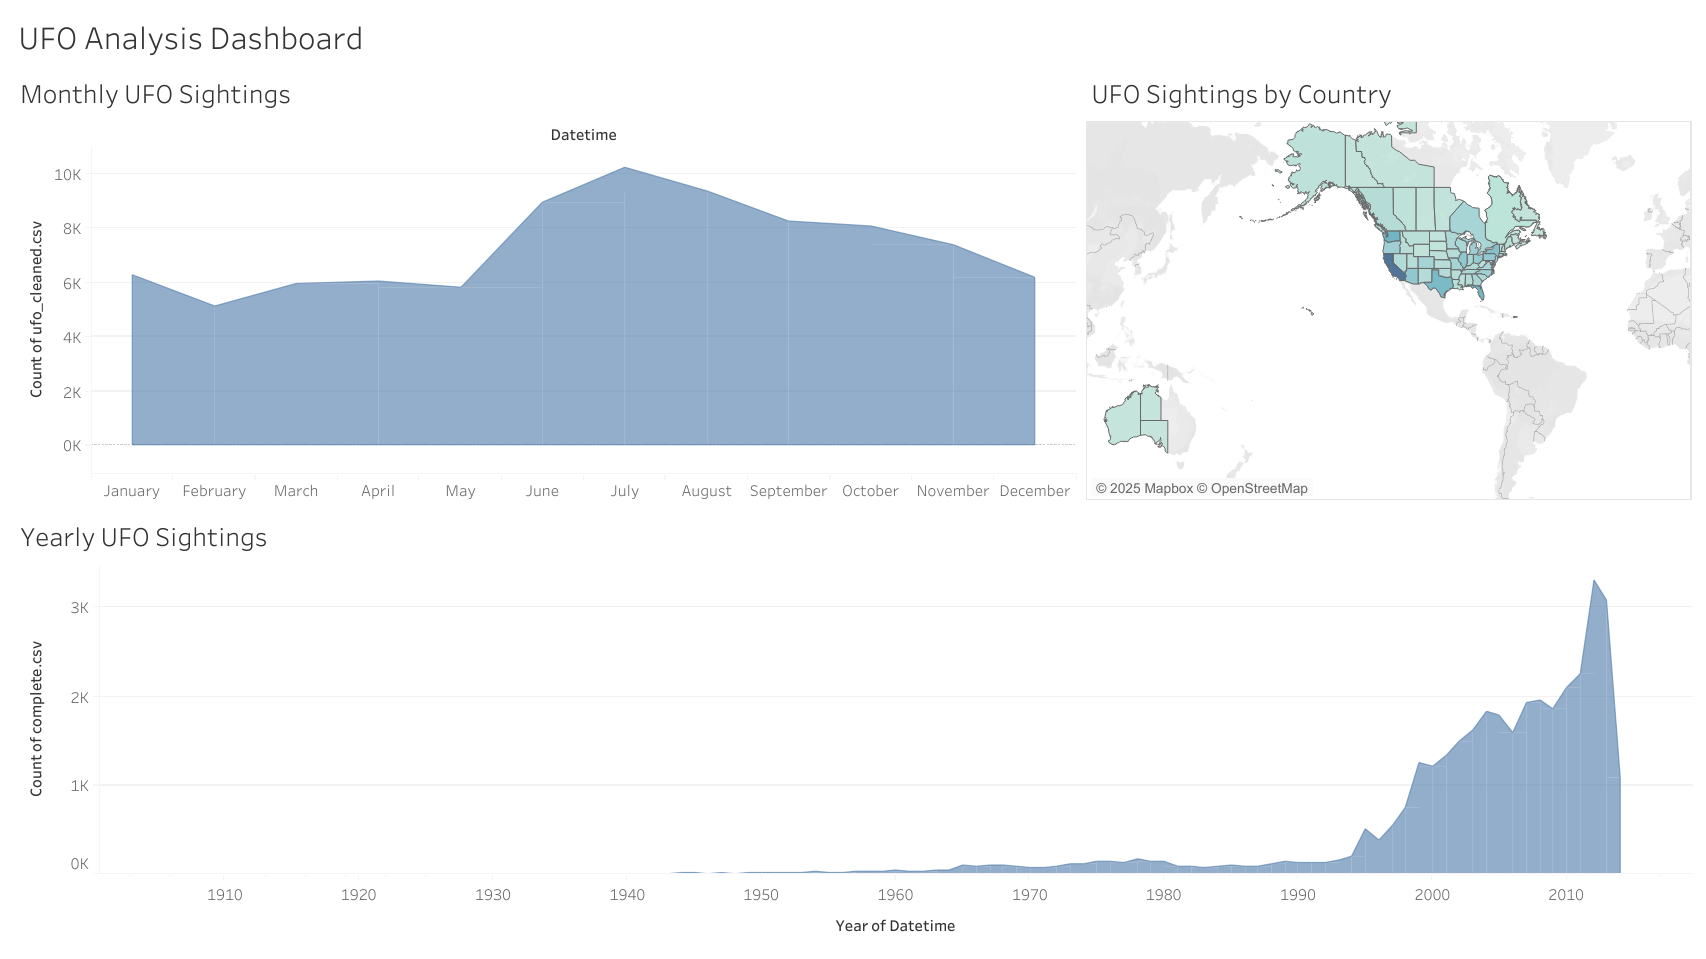

The page's visual inventory and layout, read from the dashboard file:
{"tool":"tableau","page":{"name":"UFO Analysis Dashboard","canvas":[1366,768],"ordinal":0},"visuals":[{"type":"title","box":[8,8,1350,50]},{"type":"worksheet","title":"Monthly UFO Sightings","mark":"Area","rows":["ufo_cleaned.csv_405D7FAE04CD462BA2849AC69C2F5E7C"],"cols":["datetime"],"box":[8,58,857,351]},{"type":"worksheet","title":"UFO Sightings by Country","mark":"Automatic","box":[865,58,493,351]},{"type":"worksheet","title":"Yearly UFO Sightings","mark":"Area","rows":["complete.csv_CC462EA0FF3C4A82B61550A6F2F0835F"],"cols":["datetime"],"box":[8,409,1350,351]}]}

Visuals, with their boxes in screenshot pixels (x1, y1, x2, y2), scaled from the page's 1366x768 canvas onto the 1706x959 screenshot:
title: 10/10/1696/72
"Monthly UFO Sightings" worksheet (Area marks): 10/72/1080/511
"UFO Sightings by Country" worksheet: 1080/72/1696/511
"Yearly UFO Sightings" worksheet (Area marks): 10/511/1696/949
